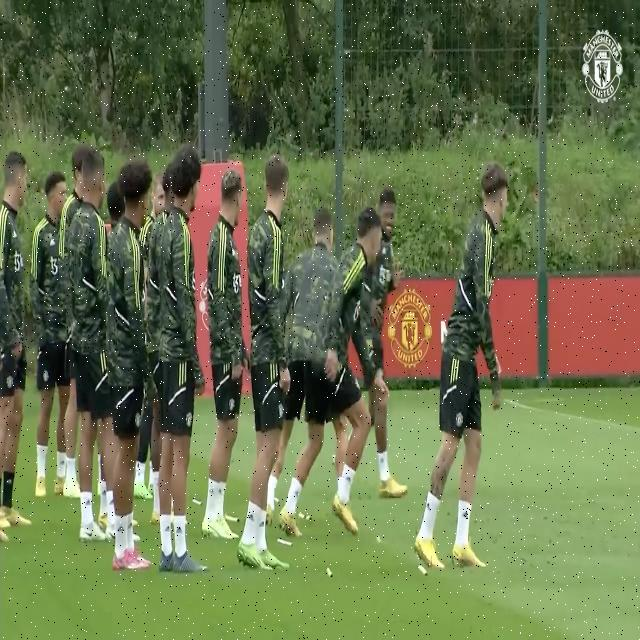Adidas: (247, 509, 255, 525), (117, 521, 125, 537), (175, 524, 185, 536), (461, 507, 470, 520)
